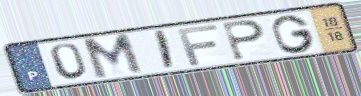0: (48, 42, 89, 82)
F: (175, 23, 221, 67)
G: (269, 13, 318, 55)
I: (154, 29, 176, 72)
M: (79, 31, 147, 82)
P: (220, 19, 267, 62)
